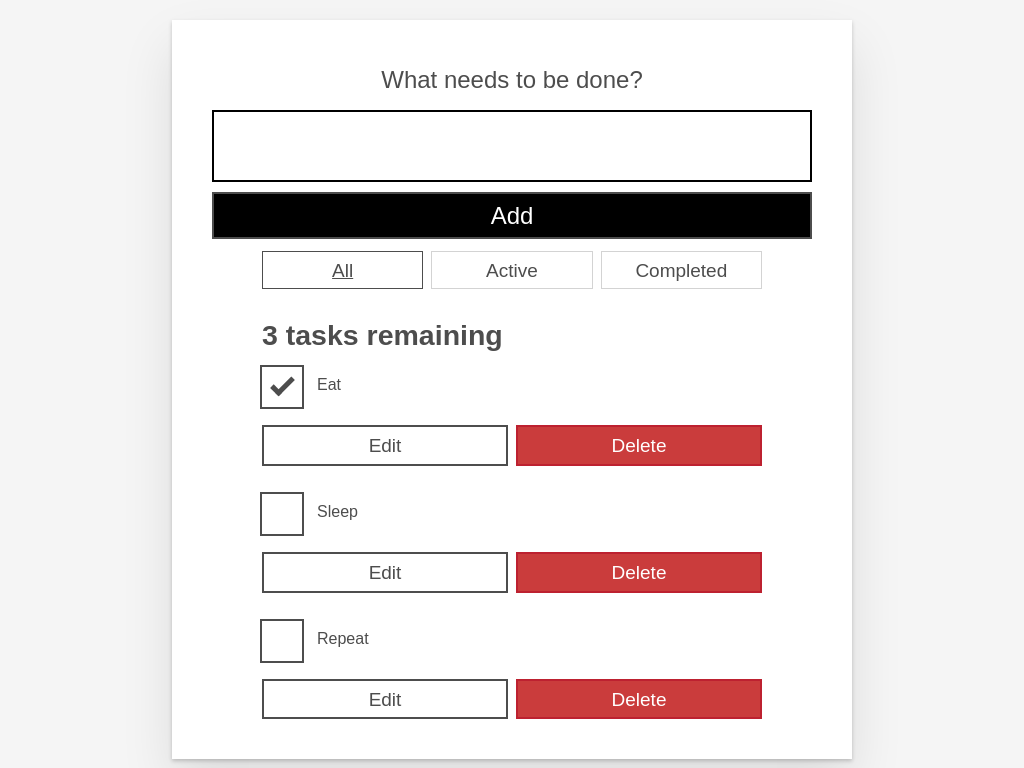
Test: to-do list › can add task
Type "test task" into the field with id "new-todo-input" at [512, 146], box 212,110 -> 812,182
Then press Enter
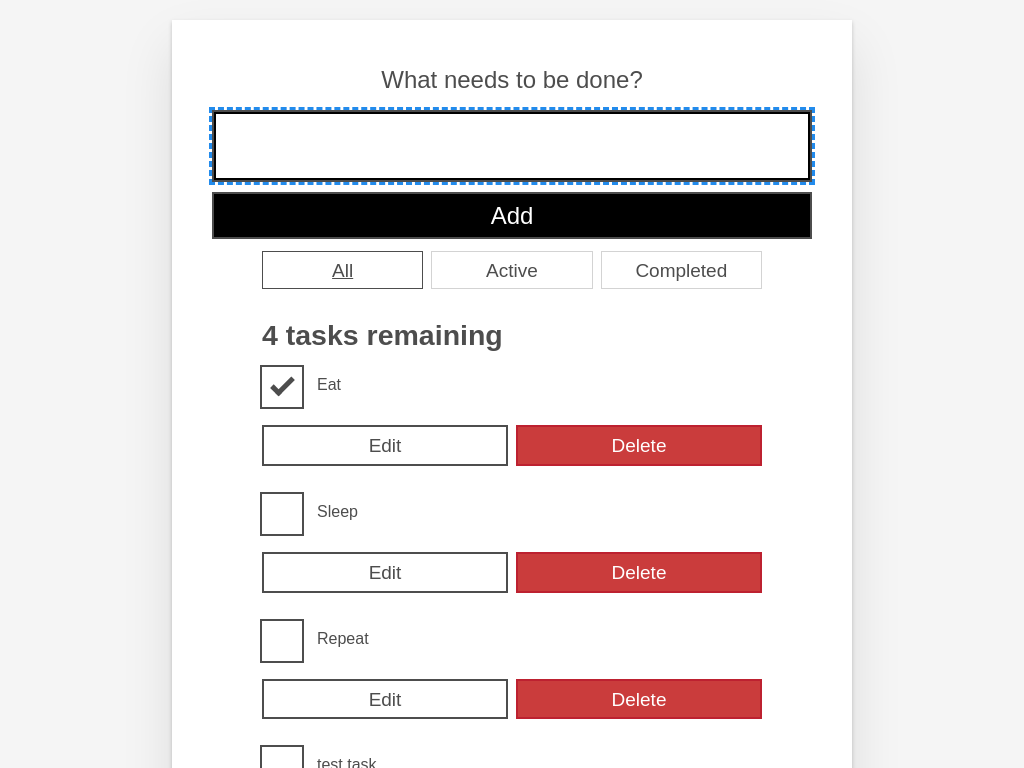
Now the checkbox with class "todo-label" reads "test task", box 302,747 -> 392,767
